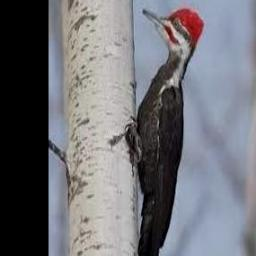Woodpecker: (128, 9, 204, 256)
